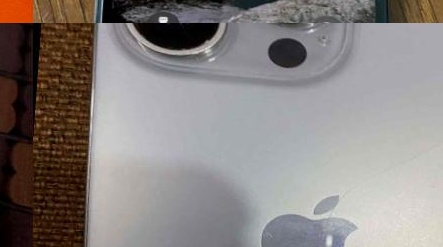physical_damage: (198, 138, 366, 247), (361, 91, 443, 183)
